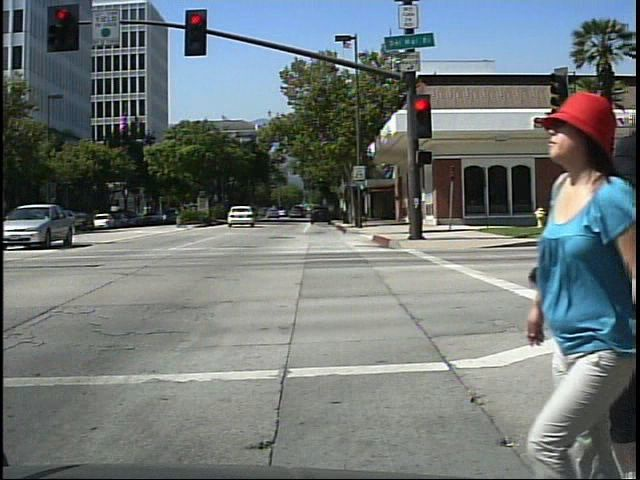person: (522, 87, 639, 480)
